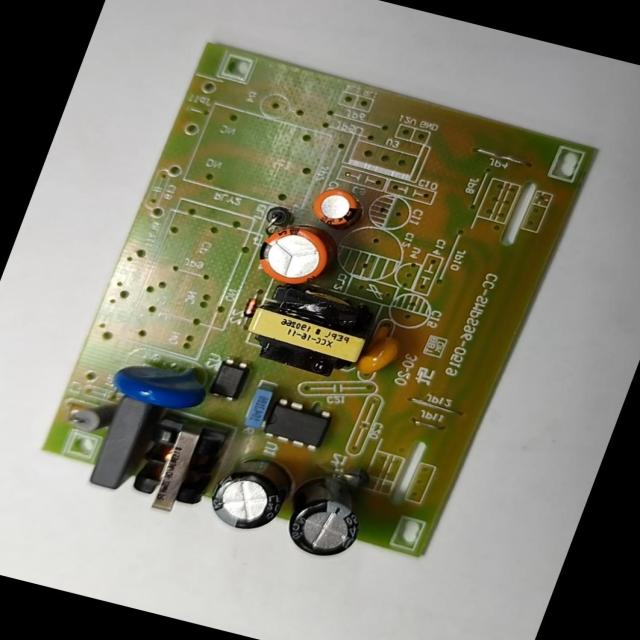Cap1: (250, 218, 336, 292)
Cap2: (306, 183, 365, 232)
Cap3: (201, 449, 300, 539)
Cap4: (276, 472, 375, 563)
MOSFET: (260, 396, 335, 452)
Mov: (107, 347, 216, 415)
Resistor: (64, 396, 116, 438)
Transformer: (236, 277, 382, 383), (123, 410, 232, 520)
